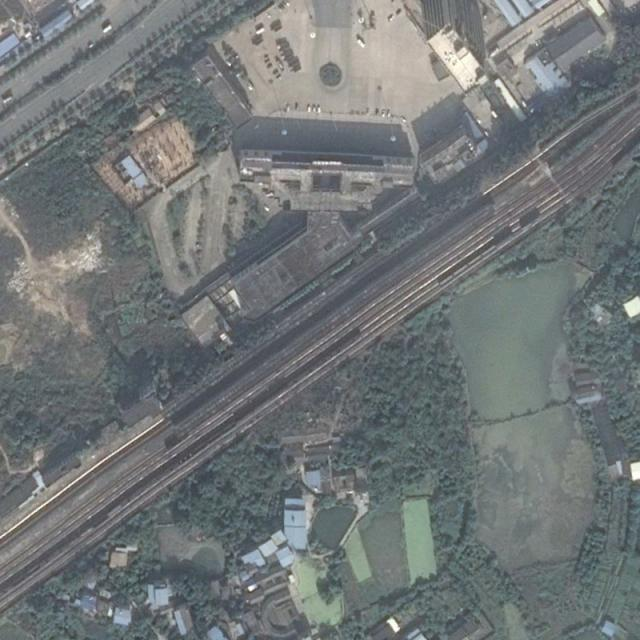vehicle: (102, 24, 113, 34), (357, 39, 366, 49), (255, 28, 266, 34), (3, 96, 12, 103)
